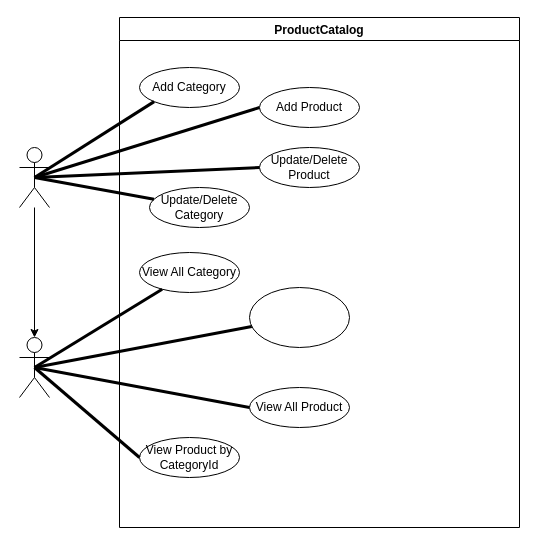
The diagram is 537 pixels wide and 545 high, and some of its shapes have lost their labels. Each missing label, with the box of its shape:
Admin: (18, 146, 50, 208)
User: (18, 336, 50, 398)
View Category by Id: (248, 286, 350, 348)
